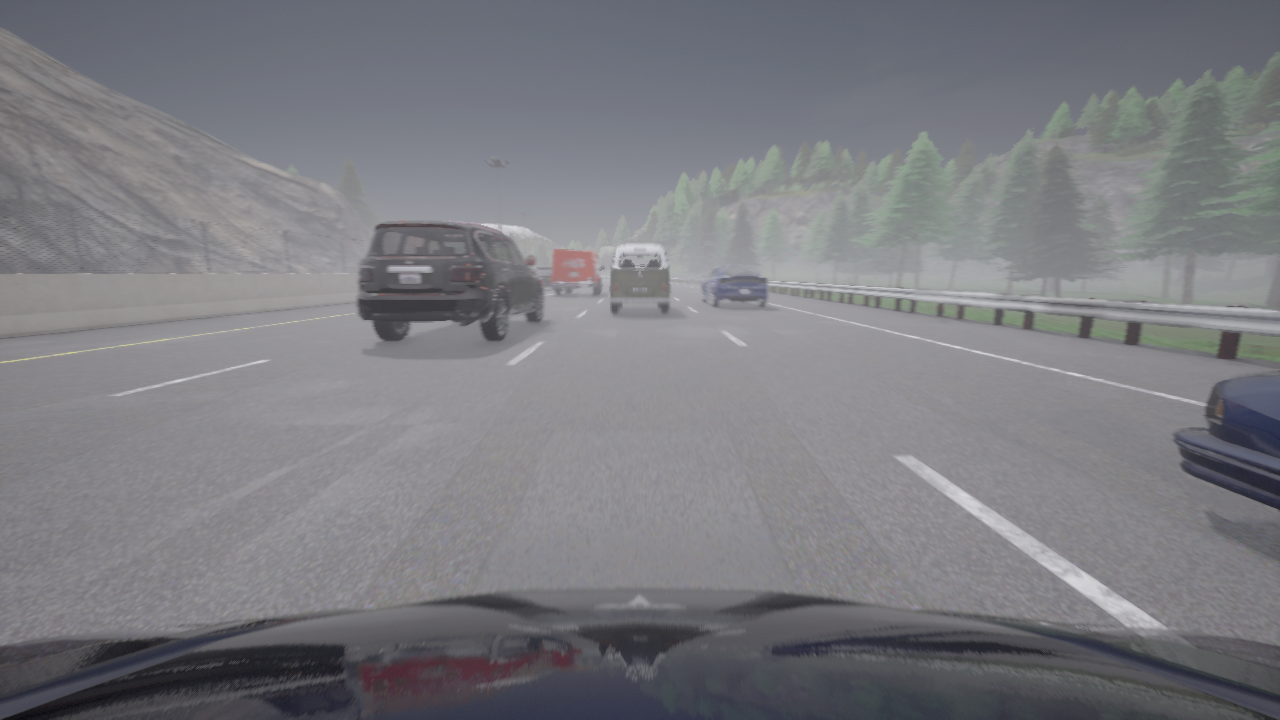cyclist: (0, 588, 1279, 719), (357, 221, 543, 341), (1171, 371, 1279, 510), (610, 244, 670, 313), (701, 264, 768, 307), (552, 250, 603, 294), (536, 268, 553, 289)
